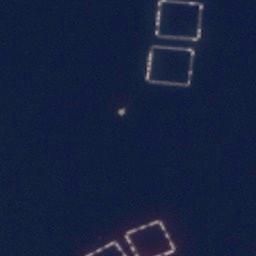square_solid: (143, 43, 196, 91), (151, 1, 205, 43), (122, 217, 177, 256)
